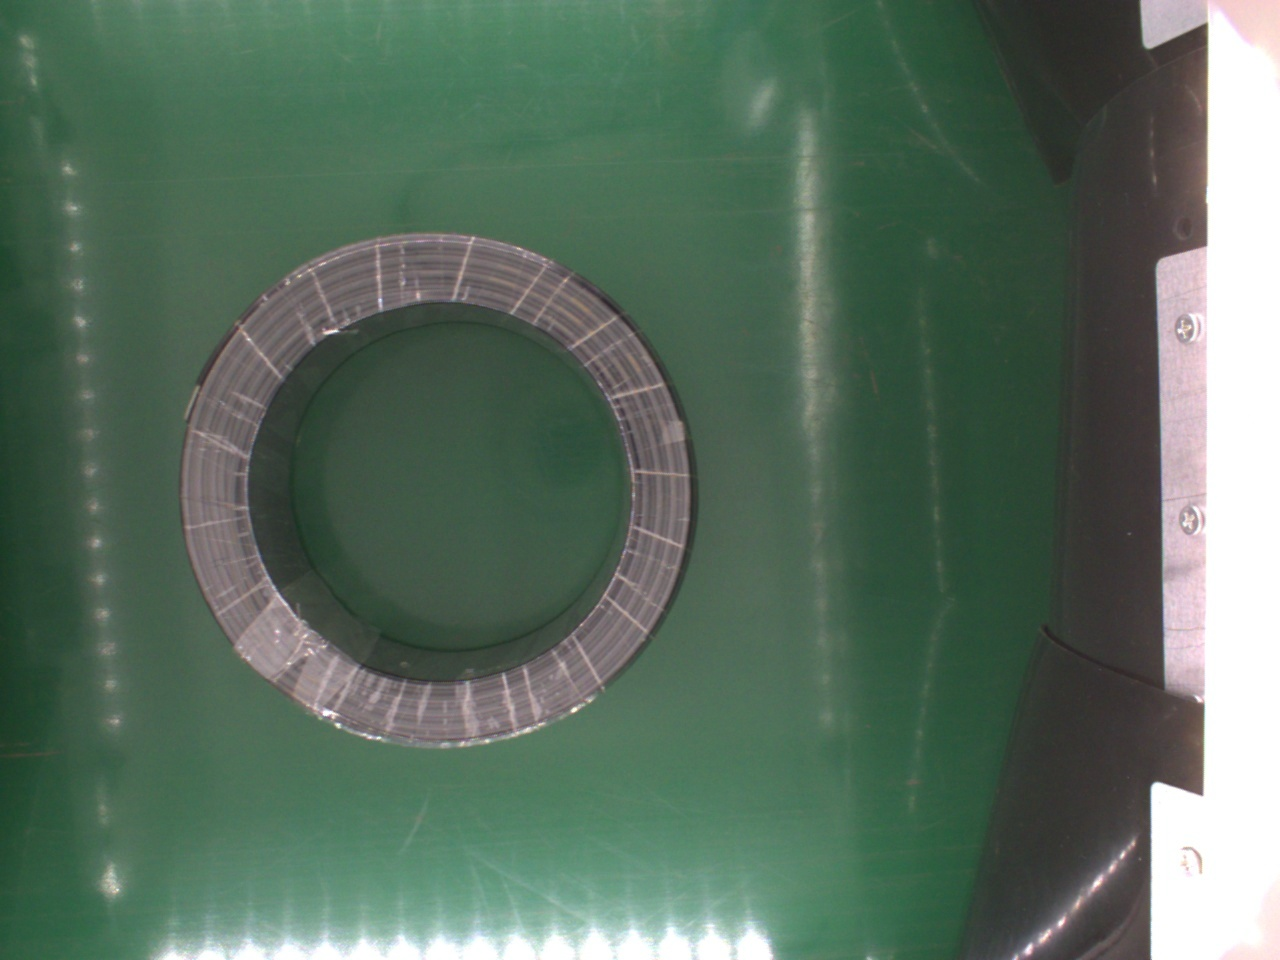black: (177, 232, 696, 746)
